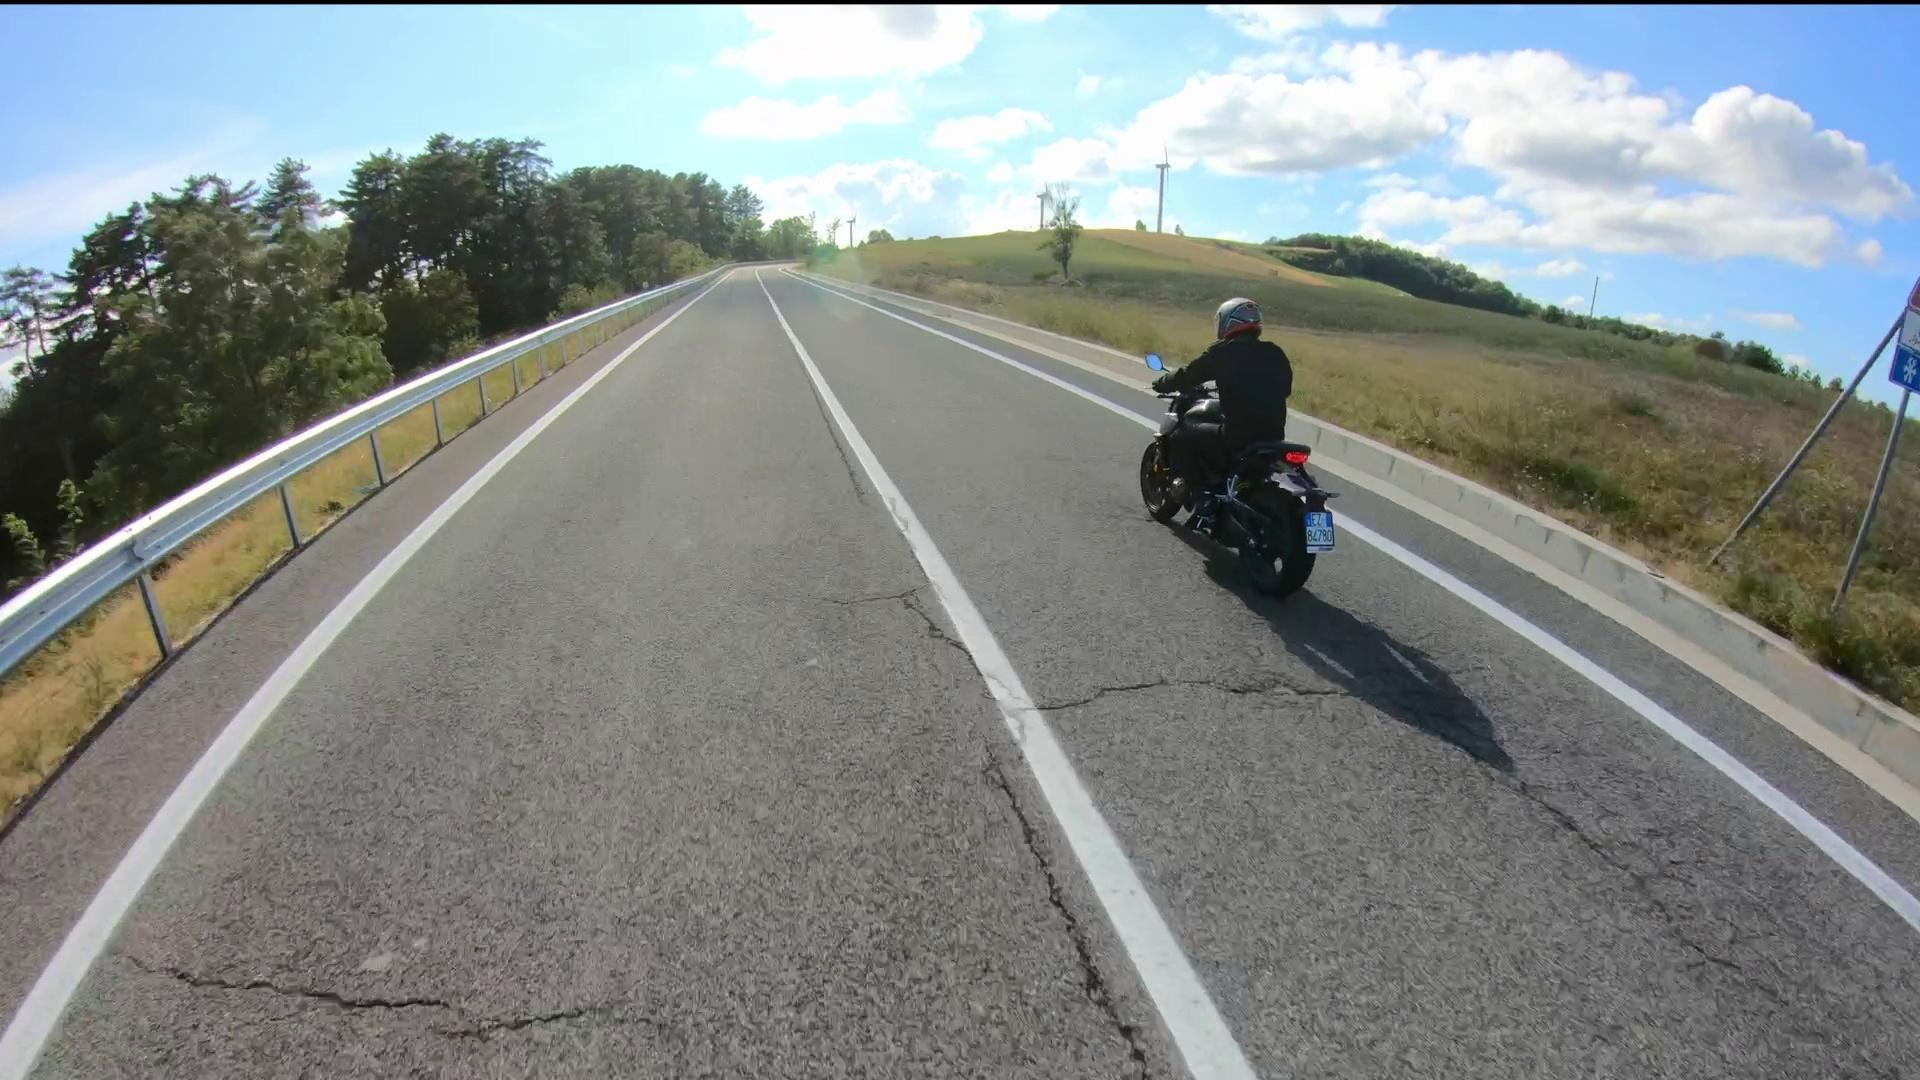cow: (1142, 352, 1338, 606)
horse: (1154, 295, 1296, 527)
